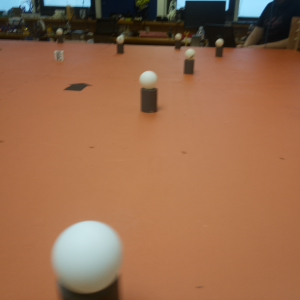blockE: (55, 51, 65, 65)
corner: (288, 16, 299, 54)
obstacle: (53, 221, 126, 296), (139, 70, 160, 117), (184, 48, 197, 78), (214, 39, 226, 59), (116, 36, 124, 54), (174, 33, 182, 50), (57, 28, 64, 45)
start: (65, 80, 95, 93)
